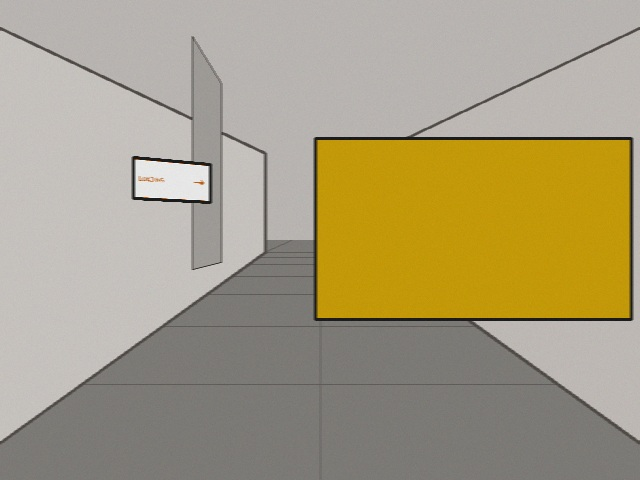directional_sign: (133, 157, 210, 202)
forklift: (315, 138, 631, 319)
